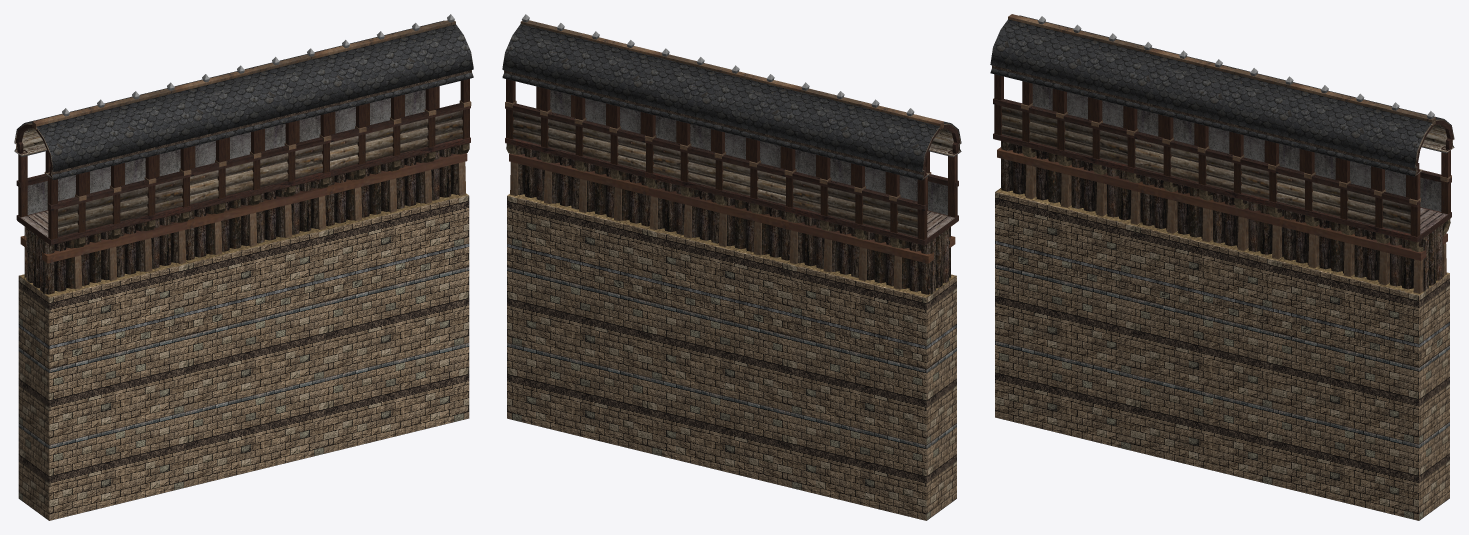
File: s_mauryas_wall_long.glb
3 renders of one model, left to right at view 1: azimuth 30°, elevation 25°; view 2: azimuth 150°, elevation 25°; view 3: azimuth 330°, elevation 25°, orthographic.
Visible parts, largest first — view 1: s_mauryas_wall_long_part0, s_mauryas_wall_long_part2, s_mauryas_wall_long_part1; view 2: s_mauryas_wall_long_part0, s_mauryas_wall_long_part2, s_mauryas_wall_long_part1; view 3: s_mauryas_wall_long_part0, s_mauryas_wall_long_part2, s_mauryas_wall_long_part1.
Boxes of the visible parts, box(x1,y1,x2,y2) form: s_mauryas_wall_long_part0: box(16, 14, 471, 520); s_mauryas_wall_long_part2: box(14, 20, 473, 289); s_mauryas_wall_long_part1: box(21, 145, 460, 294); s_mauryas_wall_long_part0: box(504, 14, 959, 520); s_mauryas_wall_long_part2: box(502, 20, 961, 289); s_mauryas_wall_long_part1: box(515, 145, 954, 294); s_mauryas_wall_long_part0: box(992, 16, 1450, 520); s_mauryas_wall_long_part2: box(990, 14, 1454, 293); s_mauryas_wall_long_part1: box(1001, 141, 1447, 291).
Bounding box in the file's own units: 9.05 × 8.11 × 1.47.
3 materials, 3 textured.
